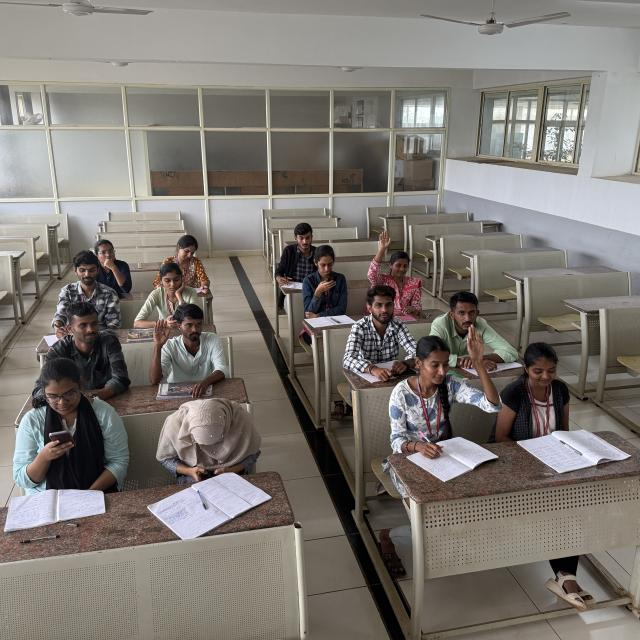Hand Rising: (99, 305, 260, 381), (404, 320, 502, 423), (364, 220, 426, 304)
Reading: (496, 332, 627, 443), (157, 234, 221, 293)
Using Phone: (7, 356, 136, 486), (137, 392, 267, 486), (137, 268, 208, 327), (302, 246, 352, 306)
Writing: (32, 252, 128, 341), (248, 212, 321, 290)
